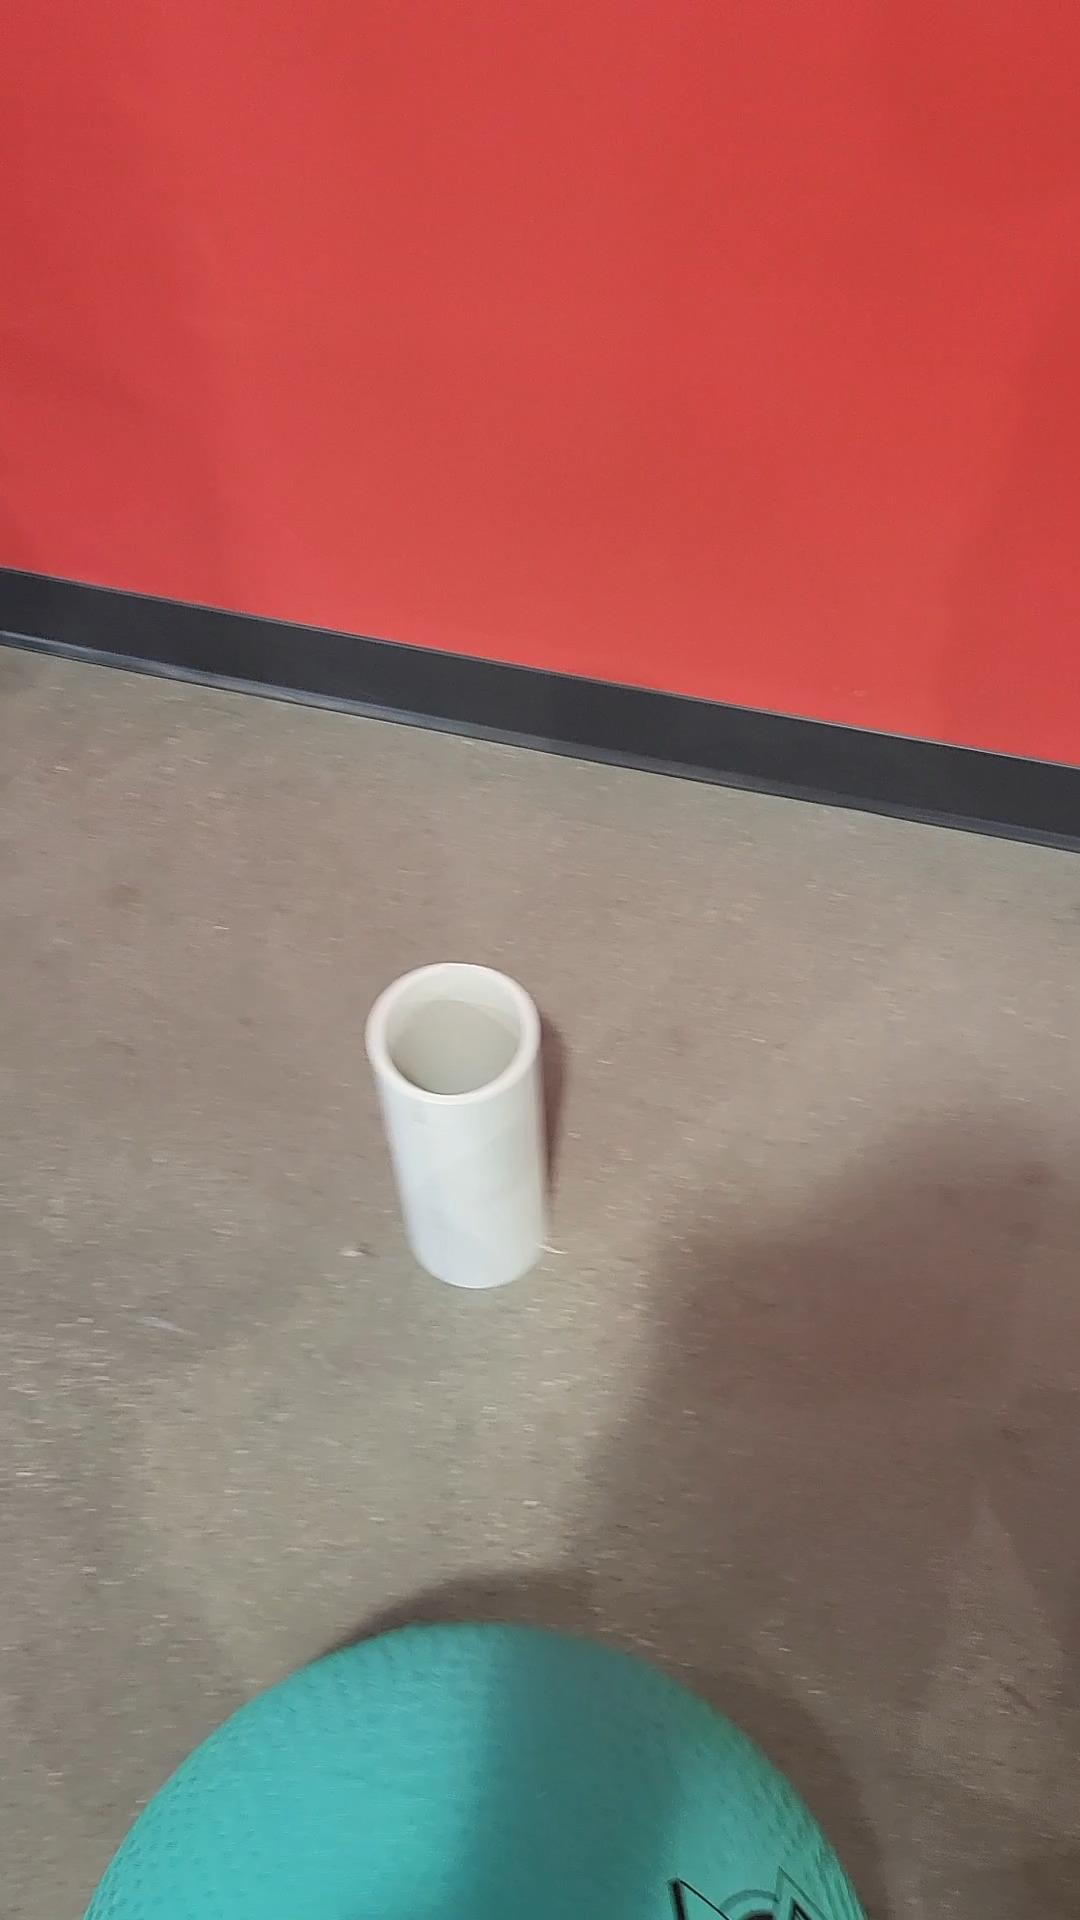algae: (82, 1617, 874, 1920)
coral: (363, 960, 551, 1288)
